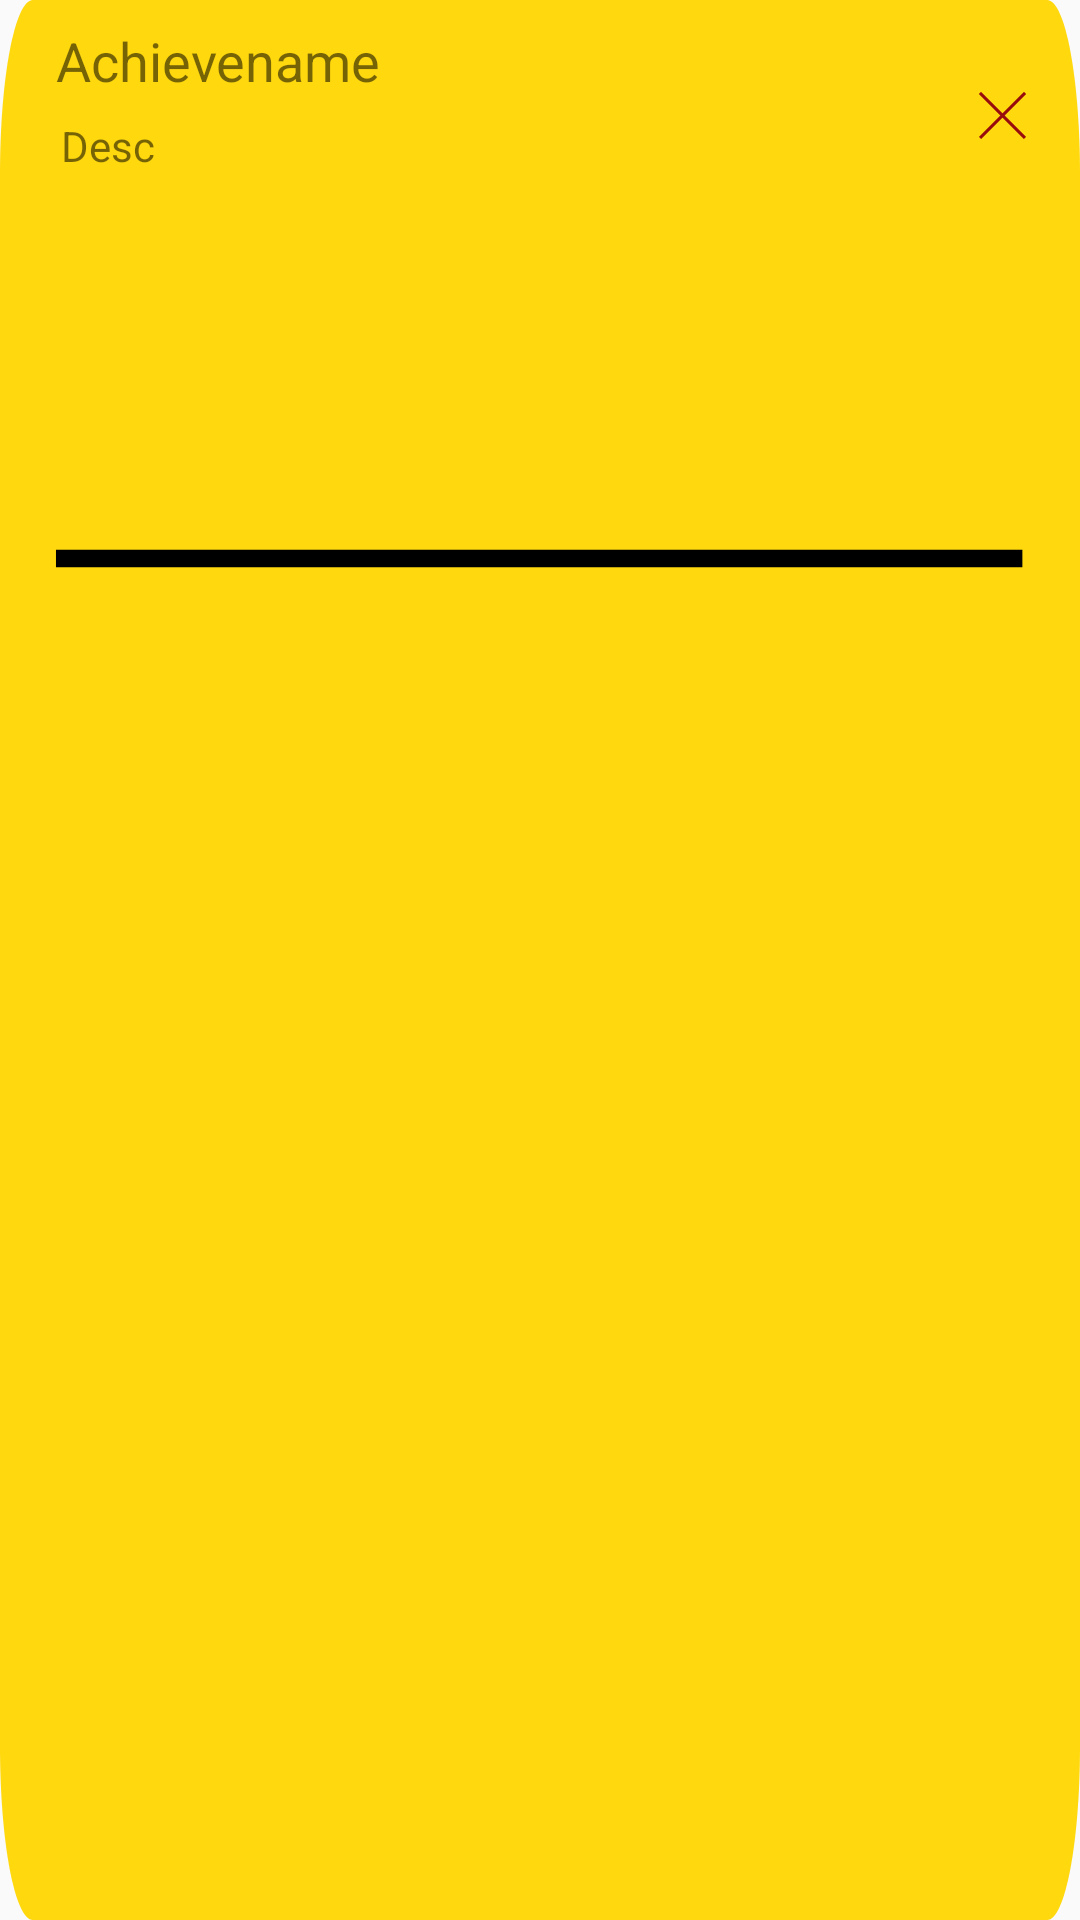

Named icons in this screenshot (1080px x 1920px) and their centers, (x,y):
redcross: (1002,115)
